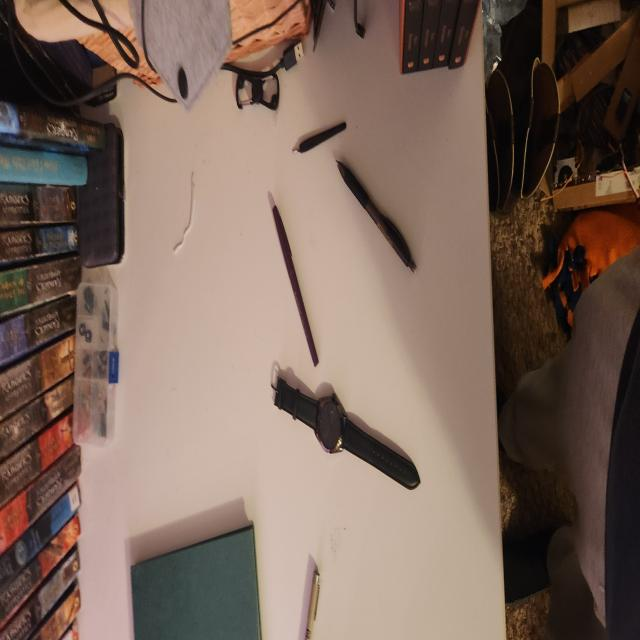Book: (127, 525, 263, 640)
Pen: (263, 189, 323, 372), (336, 161, 420, 277)
Watch: (271, 363, 420, 489)
